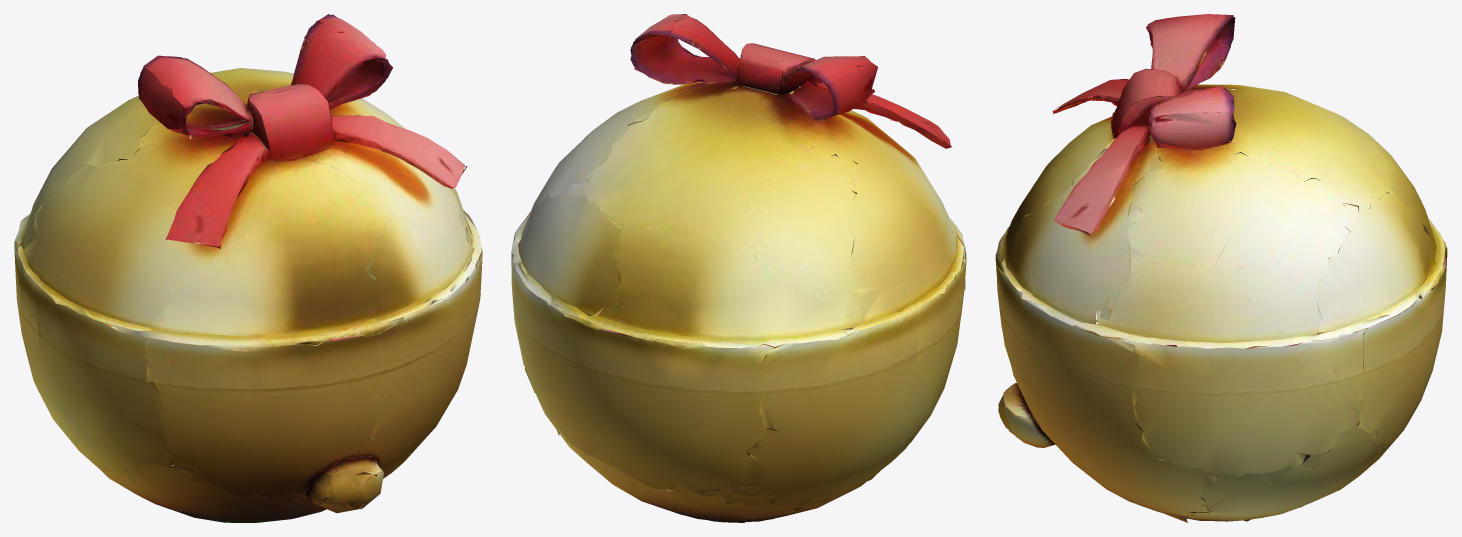
The model's file is bell.glb.
3 renders of one model, left to right at view 1: azimuth 30°, elevation 25°; view 2: azimuth 150°, elevation 25°; view 3: azimuth 270°, elevation 25°, orthographic. The views are drawn at different scales.
Parts seen in each view (by area): view 1: low; view 2: low; view 3: low.
Part boxes in pixels (box(x1,y1,x2,y2)): low: box(14, 14, 482, 522); low: box(511, 14, 966, 522); low: box(995, 14, 1447, 522).
Size of the model in its own units: 1.83 by 2 by 1.84.
Materials: 1 (1 with a texture image).
